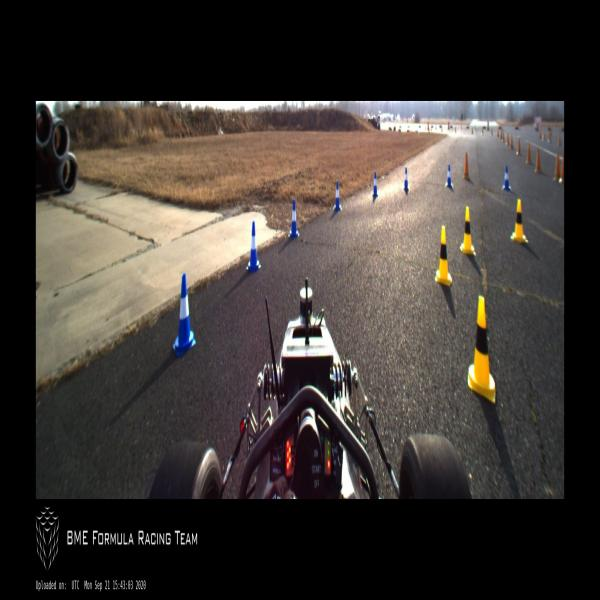blue_cone: (172, 271, 197, 358), (246, 221, 261, 272), (288, 198, 300, 238), (502, 164, 511, 192), (334, 181, 342, 211), (445, 164, 452, 188), (372, 172, 378, 196), (404, 168, 409, 190)
yellow_cone: (467, 293, 496, 405), (435, 225, 452, 288), (510, 196, 528, 245), (459, 206, 475, 256)
